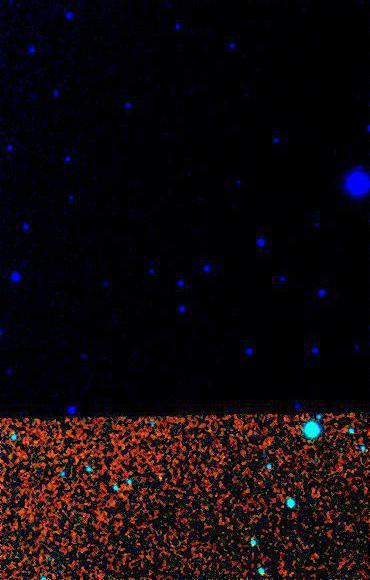star: (148, 462, 178, 492)
